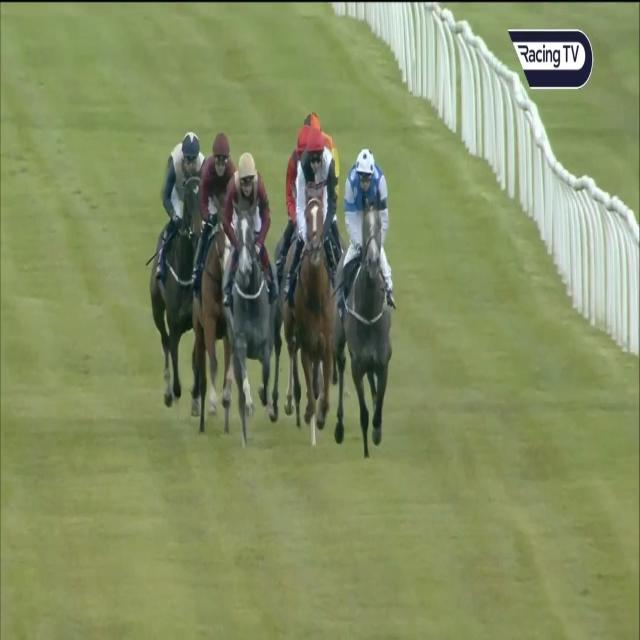horses-racing: (266, 118, 344, 428), (342, 146, 399, 452), (284, 131, 336, 448), (150, 131, 204, 428), (221, 156, 277, 440), (295, 106, 343, 334), (201, 136, 235, 444)
